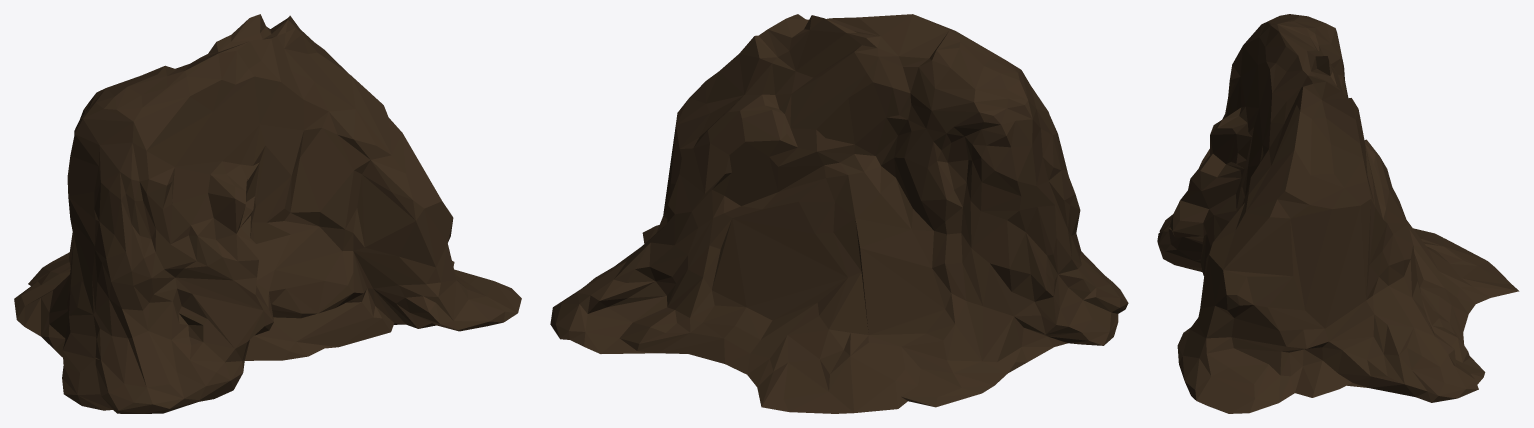
File: SM_cliff_02.FBX
3 views of the same model, side by side, from view 1: azimuth 30°, elevation 25°; view 2: azimuth 150°, elevation 25°; view 3: azimuth 270°, elevation 25° (orthographic). The views are drawn at different scales.
Visible parts, largest first — view 1: Object033; view 2: Object033; view 3: Object033.
Part boxes in pixels (box(x1,y1,x2,y2)): Object033: box(14, 14, 521, 413); Object033: box(550, 14, 1128, 413); Object033: box(1157, 14, 1519, 413).
Bounding box in the file's own units: 1800 × 1142 × 1412.
